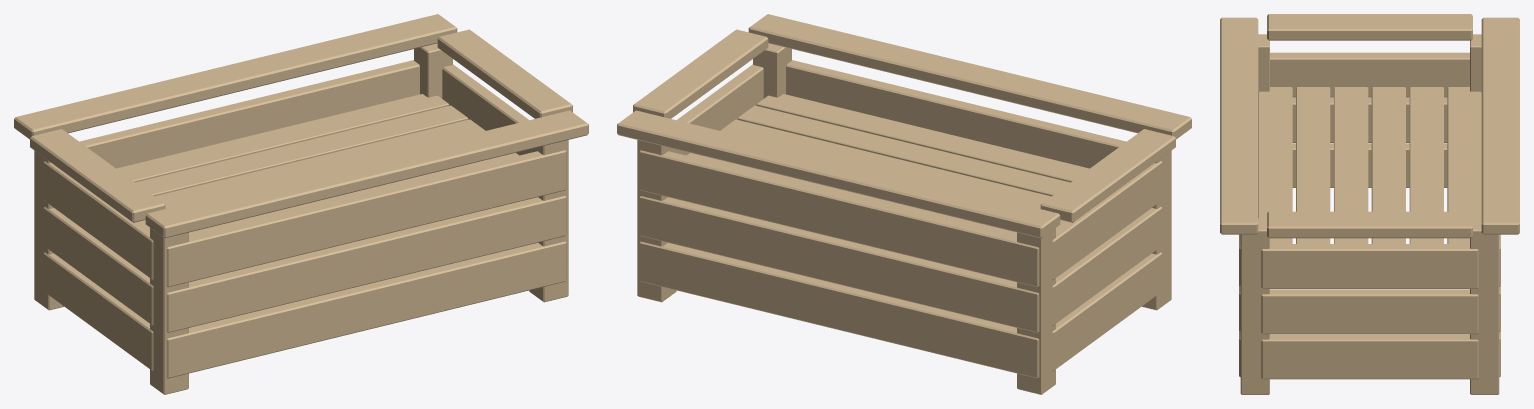
The model's file is garden-centre-and-florist-raised-sales-bed-d3693508__17723.glb.
3 views of the same model, side by side, from view 1: azimuth 30°, elevation 25°; view 2: azimuth 150°, elevation 25°; view 3: azimuth 270°, elevation 25° (orthographic).
Visible parts, largest first — view 1: raised-sales-bed; view 2: raised-sales-bed; view 3: raised-sales-bed.
Part boxes in pixels (left/top/right/bottom): raised-sales-bed: left=14, top=14, right=588, bottom=394; raised-sales-bed: left=617, top=14, right=1191, bottom=394; raised-sales-bed: left=1220, top=14, right=1519, bottom=394.
Size of the model in its own units: 1.72 by 0.665 by 1.02.
